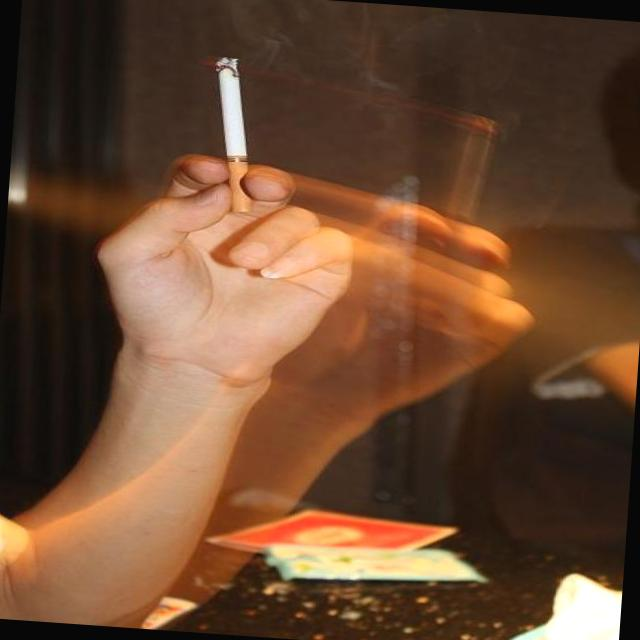cigarette: (192, 48, 271, 216)
